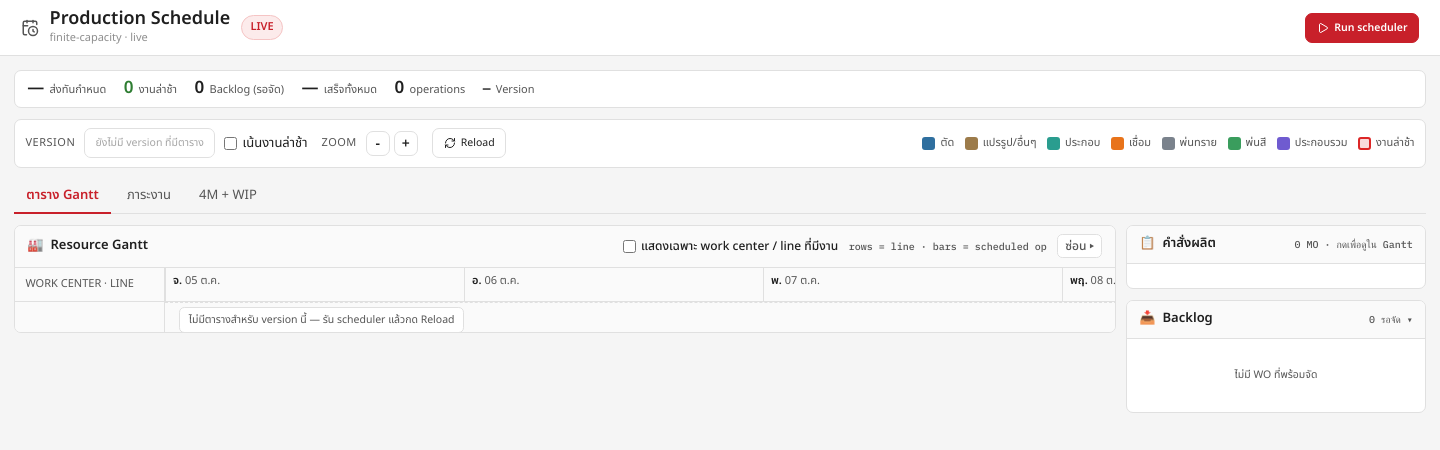
Scenario: ProductionSchedule › renders the empty states when no version has rows
Expected: the button "ยังไม่มี version ที่มีตาราง" is disabled, [85,129,214,157]
Expected: the text "ไม่มีตารางสำหรับ version นี้ — รัน scheduler แล้วกด Reload" is shown, [179,307,464,332]
Step 1. Click the tab "ภาระงาน" → (149, 196), box [115,178,183,214]
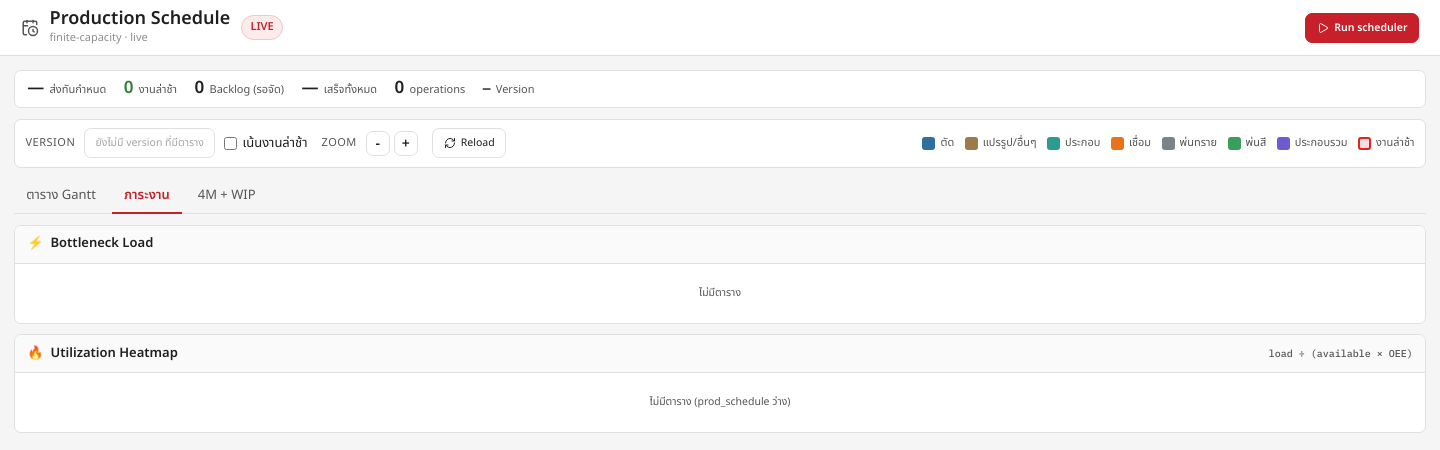
Expected: the element with test id "kpi-onTime" shows "—", [27,75,44,101]
Now the text "ไม่มีตาราง (prod_schedule ว่าง)" is shown, box [650,394,790,410]
